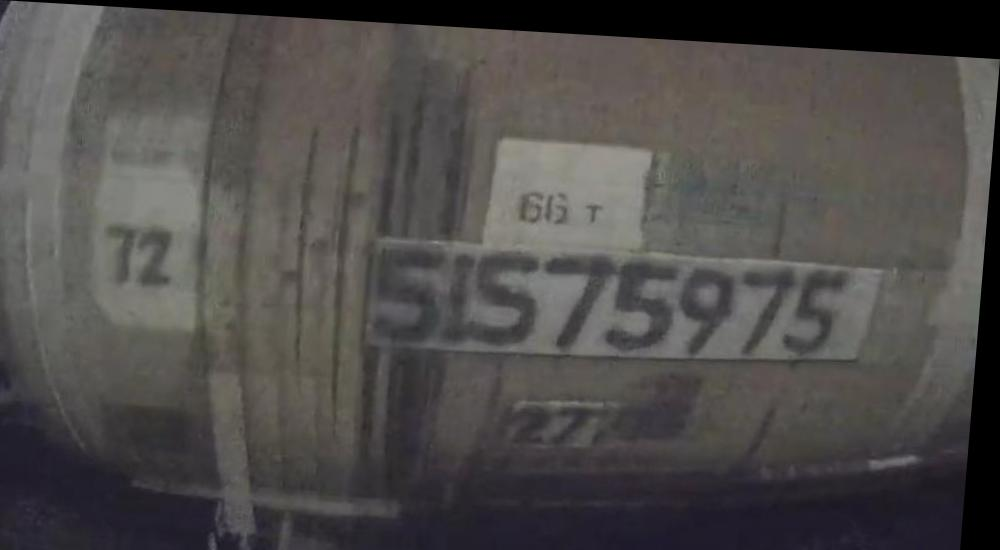Wagon-number: (367, 231, 865, 365)
